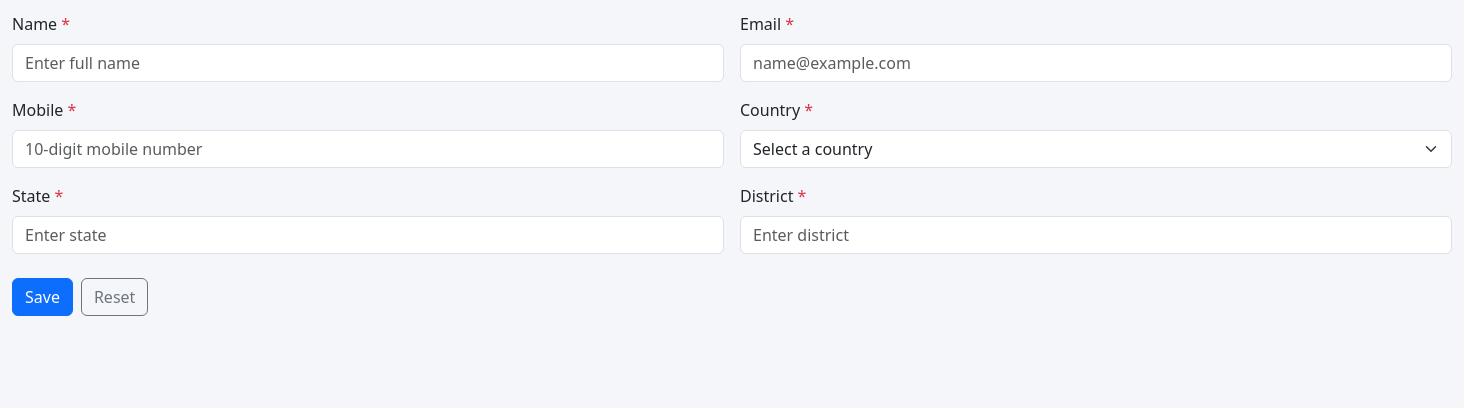
EmployeeForm › shows required-field validation errors on empty submit
Click the button "Save" at (42, 297), box [12,278,73,316]
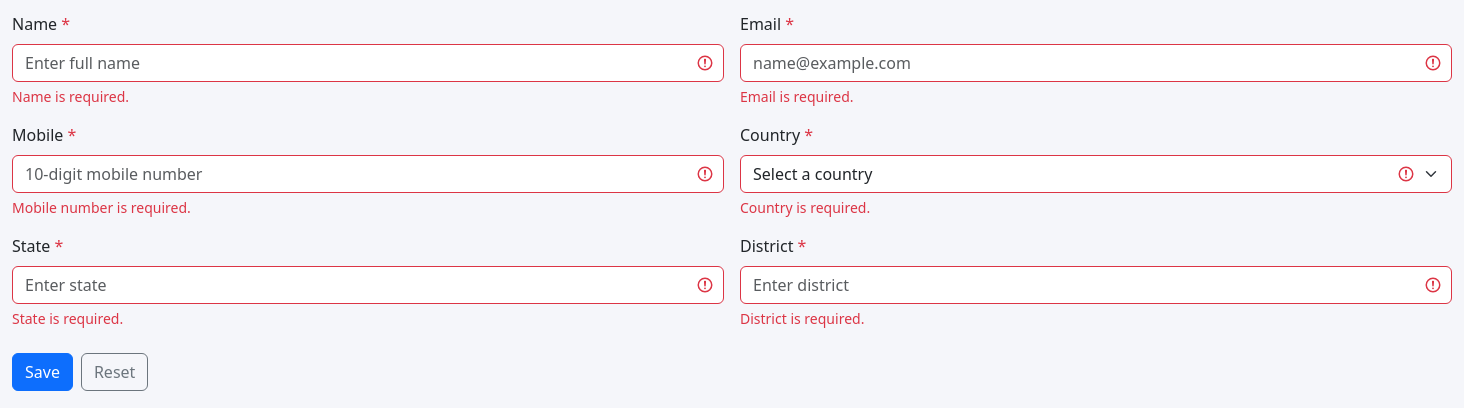
Now the text "Name is required." is shown, box [12,87,129,106]
Now the text "Email is required." is shown, box [740,87,854,106]
Now the text "Mobile number is required." is shown, box [12,198,191,217]
